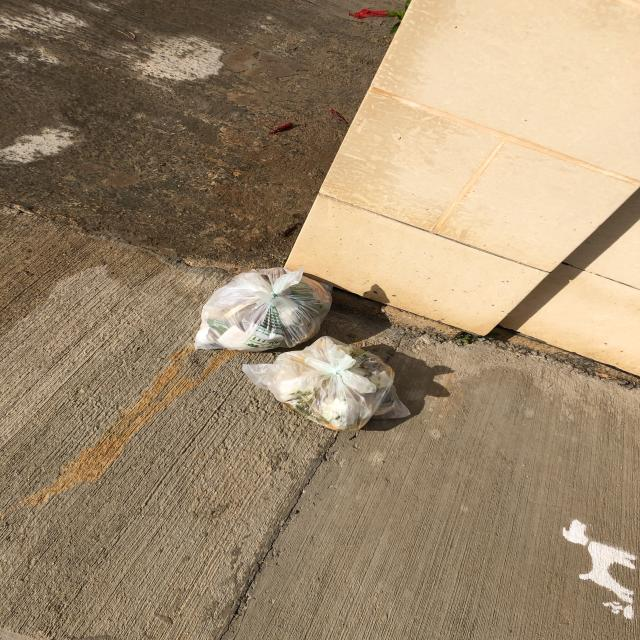Organic Waste -White Bag-: (236, 330, 418, 437), (192, 260, 333, 357)
